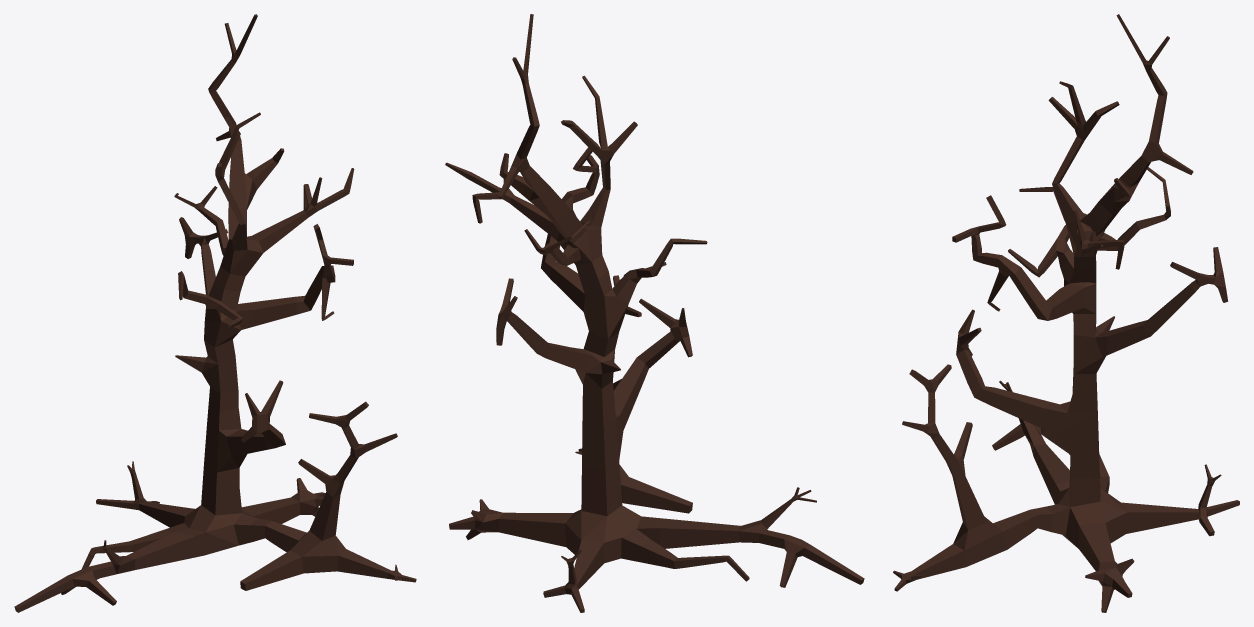
File: EvilTree.fbx
The picture shows the model from 3 angles, left to right: view 1: azimuth 30°, elevation 25°; view 2: azimuth 150°, elevation 25°; view 3: azimuth 270°, elevation 25°; orthographic projection. The views are drawn at different scales.
Visible parts, largest first — view 1: tree_evil_lod_0; view 2: tree_evil_lod_0; view 3: tree_evil_lod_0.
Part boxes in pixels (<box>): tree_evil_lod_0: <box>14,14,416,612</box>; tree_evil_lod_0: <box>445,14,864,612</box>; tree_evil_lod_0: <box>893,14,1239,612</box>.
Size of what is drawn, in the model's own units: 3990 by 3015 by 5400.
